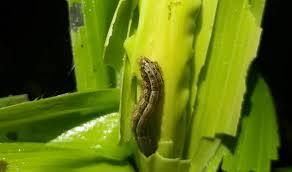fallarmy_worm: (125, 55, 172, 160)
